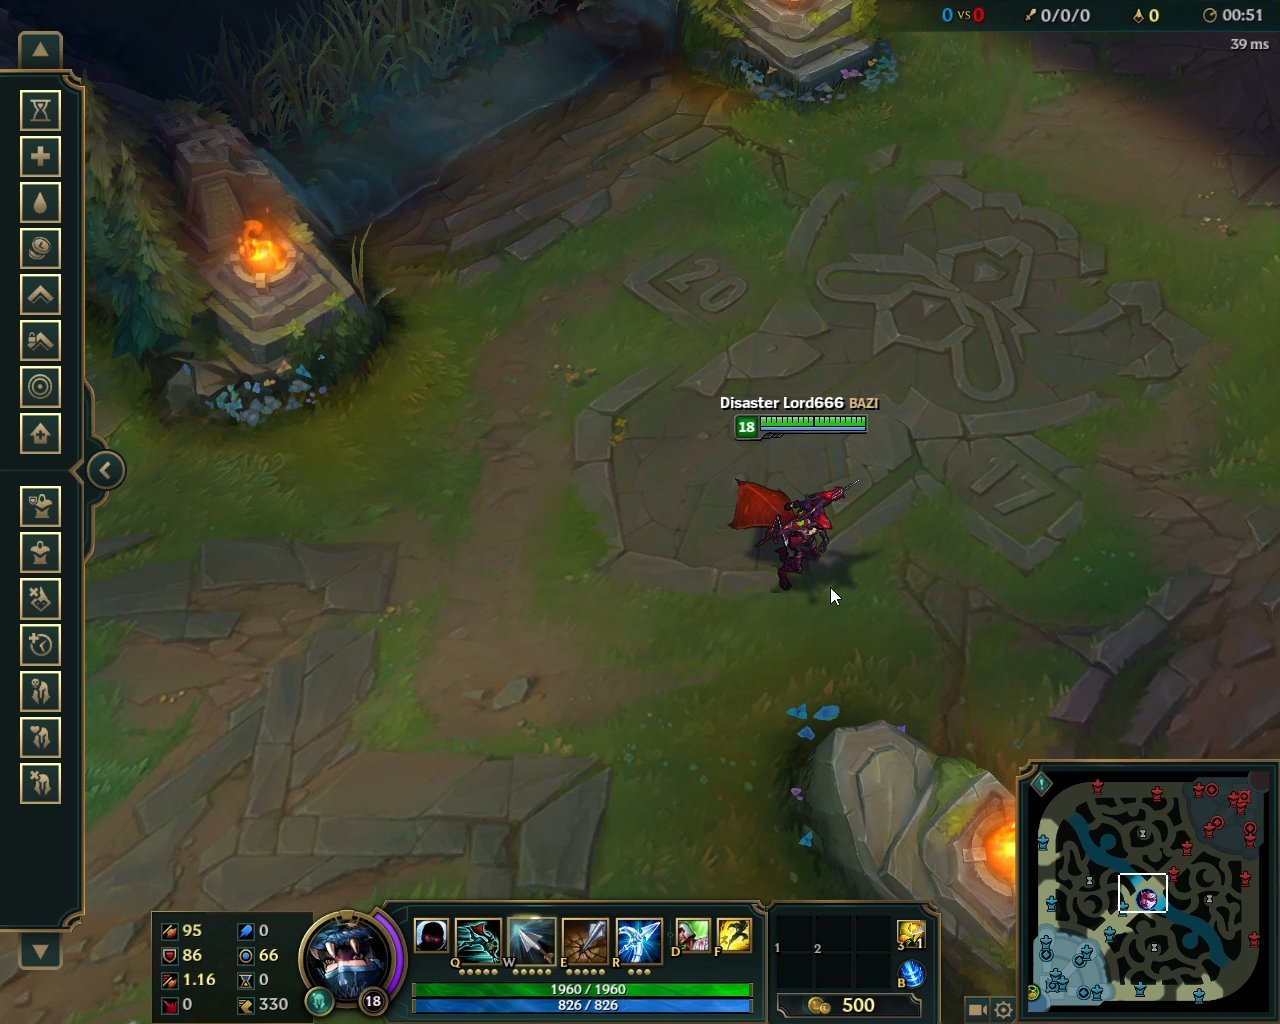Vayne: (721, 470, 863, 600)
